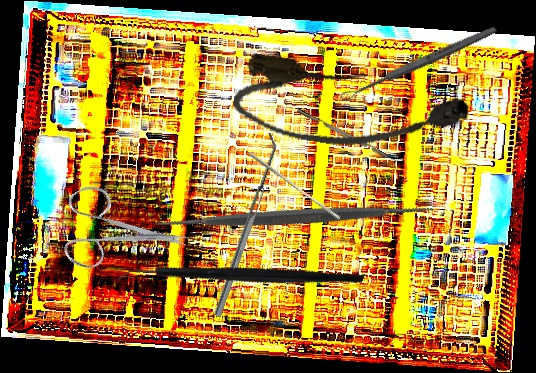Cannula: (229, 51, 474, 165)
Chopper: (115, 189, 366, 370), (296, 103, 404, 166)
Iris Scissors: (41, 153, 194, 301)
Pusher: (245, 151, 343, 221)
Spatula Surgical: (141, 63, 447, 369), (206, 132, 283, 318)
Surgical Spoon: (338, 23, 499, 104)
